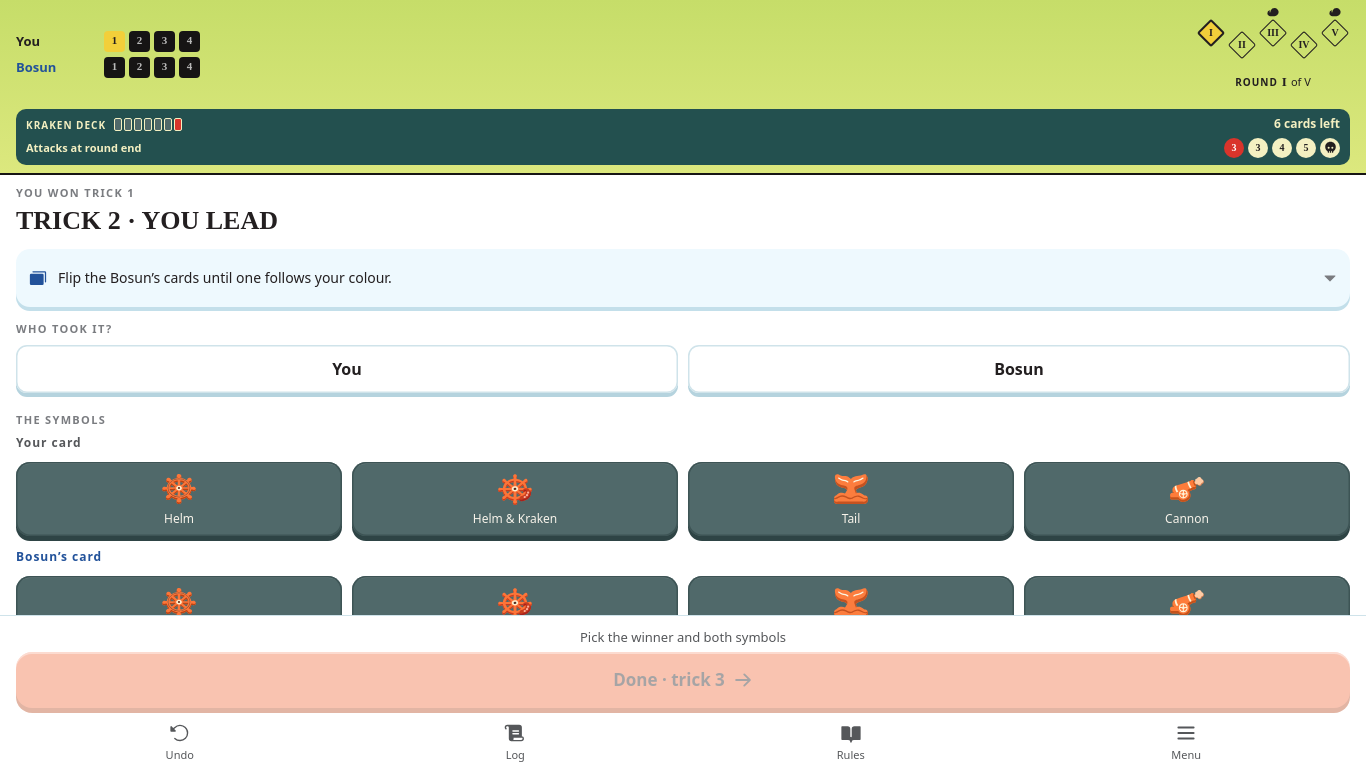
undo (D3) › takes back the last tap and says what it undid, with Undo more
This screenshot has width=1366, height=768.
Click the button "Undo" at {"x": 180, "y": 742}, box [12,716,348,767]
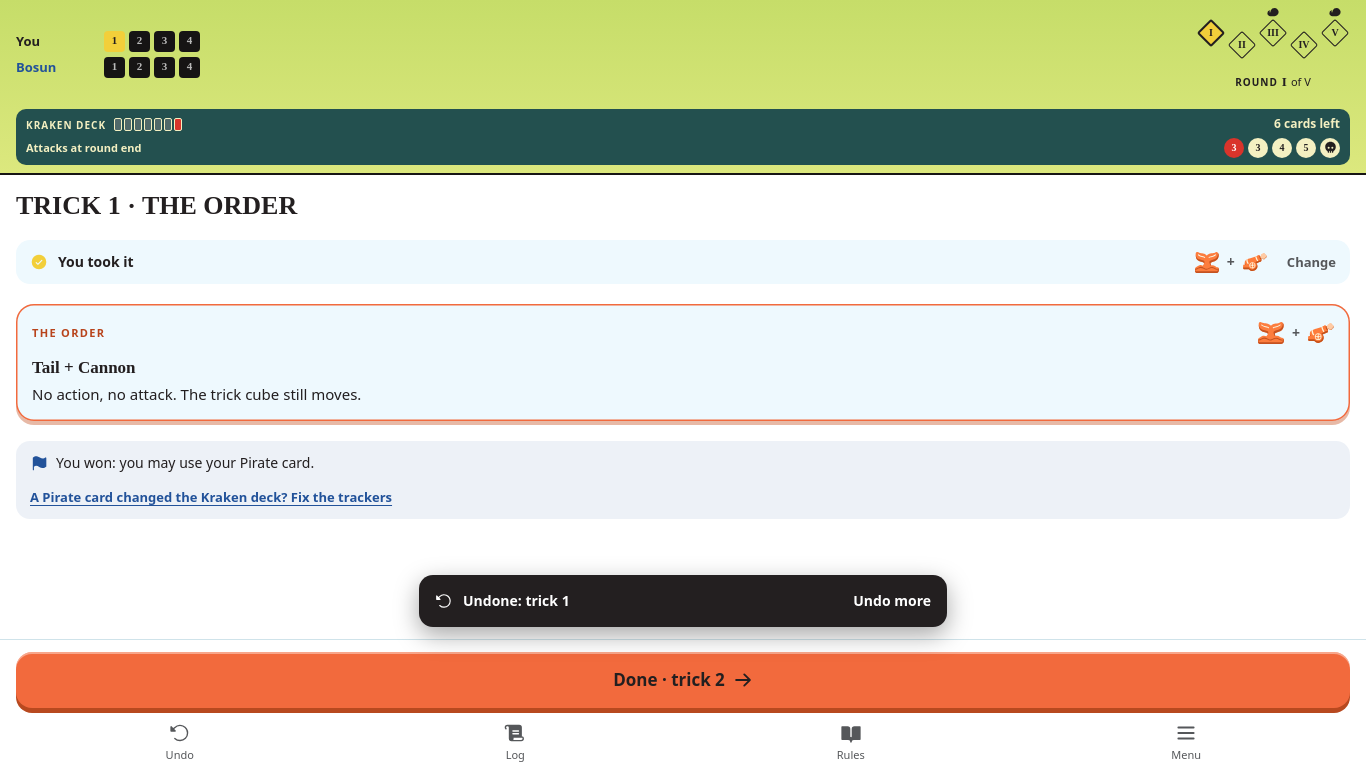
Expected: the text "Undone: trick 1" is shown, [463,591,570,610]
Click the button "Undo more" at {"x": 892, "y": 601}, box [841,579,943,623]
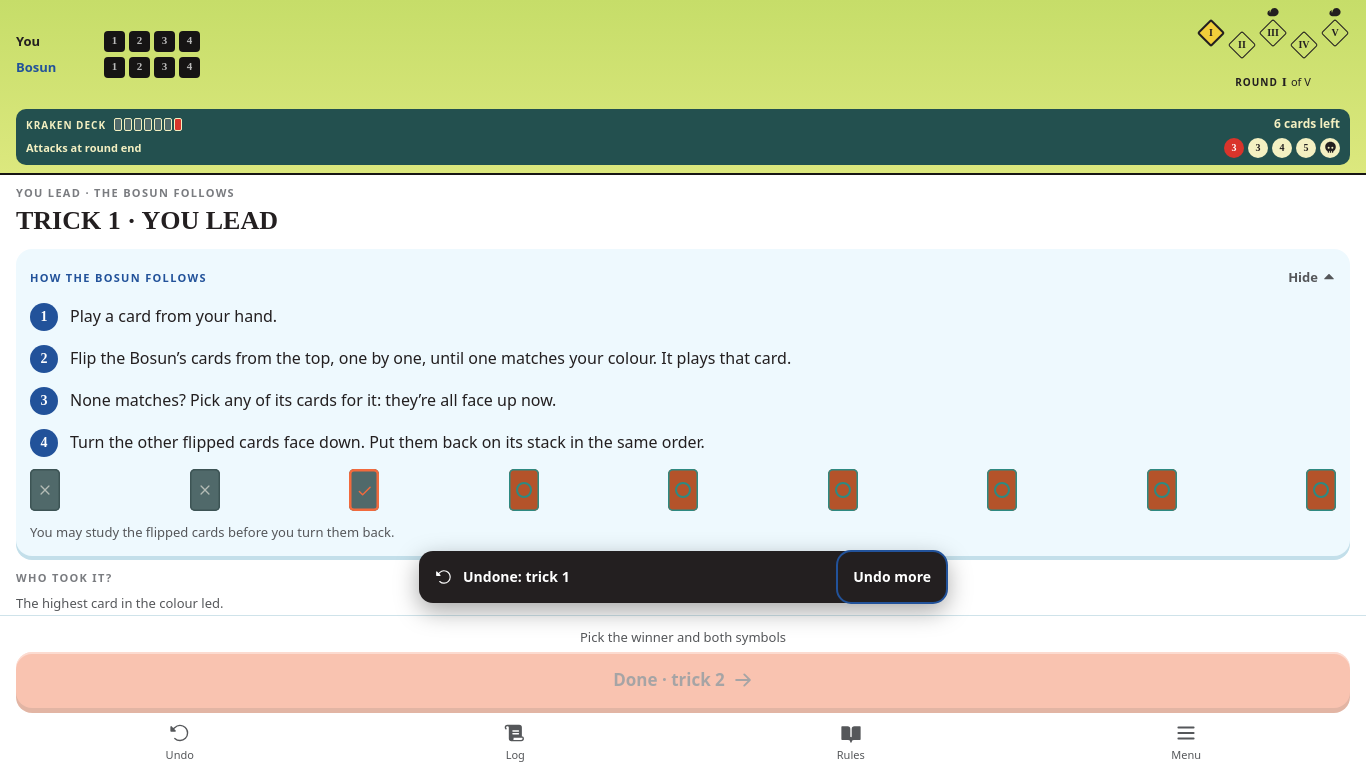
Expected: the text "Undone: trick 1" is shown, [463,567,570,586]
Click the button "Undo more" at {"x": 892, "y": 577}, box [841,555,943,599]
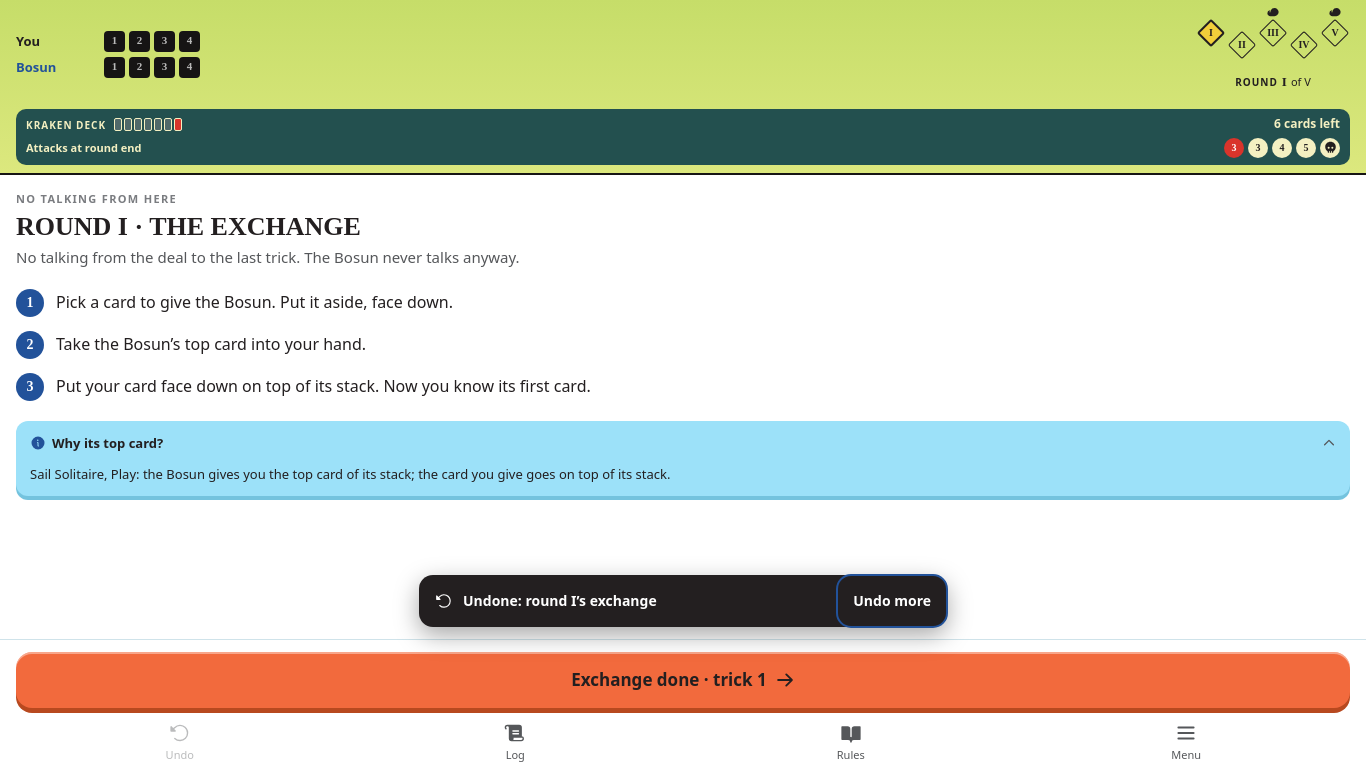
Expected: the text "Undone: round I’s exchange" is shown, [463,591,657,610]
Expected: the button "Undo" is disabled, [12,716,348,767]
